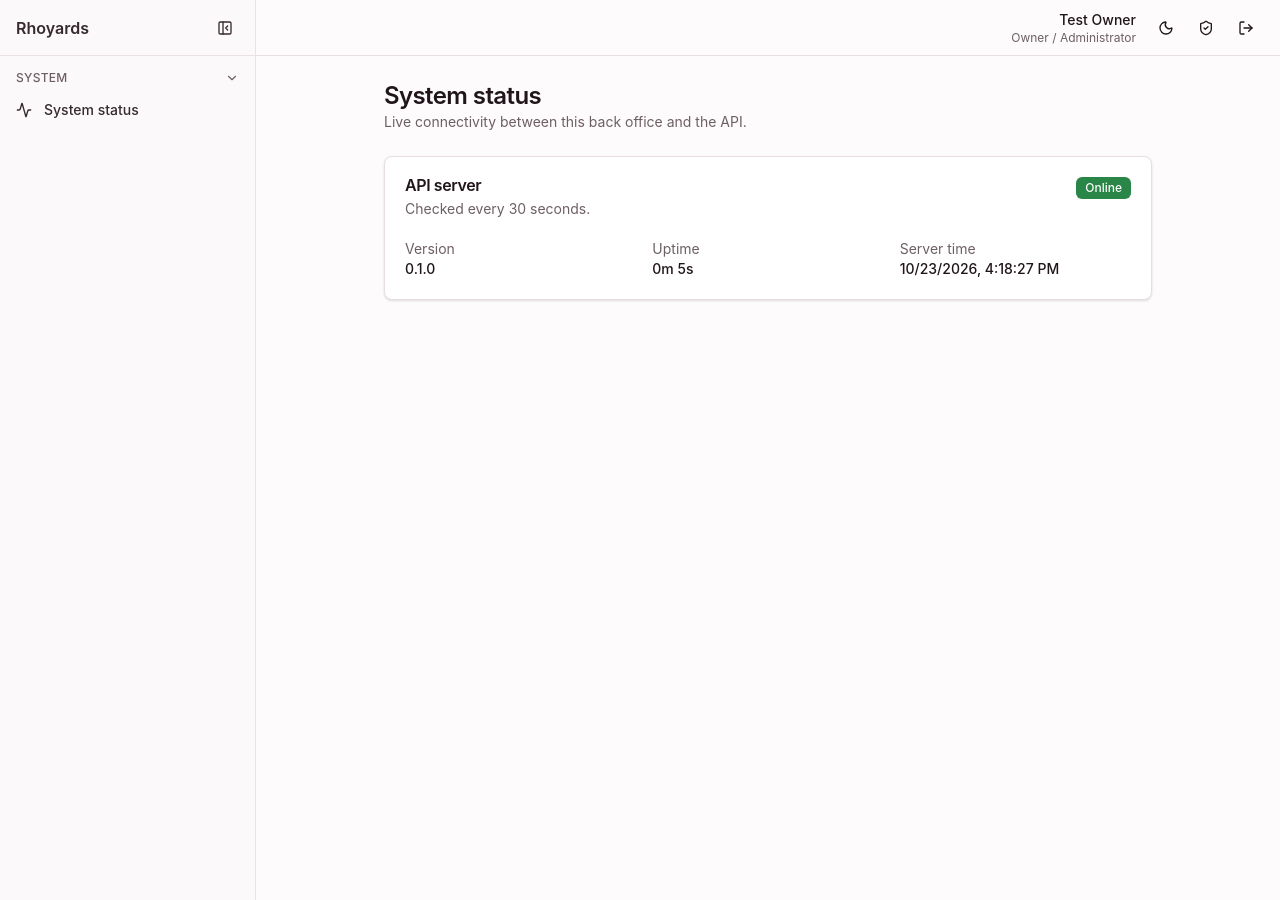
Test: AppLayout › collapses the sidebar and remembers the preference
Click the button named "Collapse sidebar" at (225, 28), box x1=207 y1=10 x2=243 y2=46
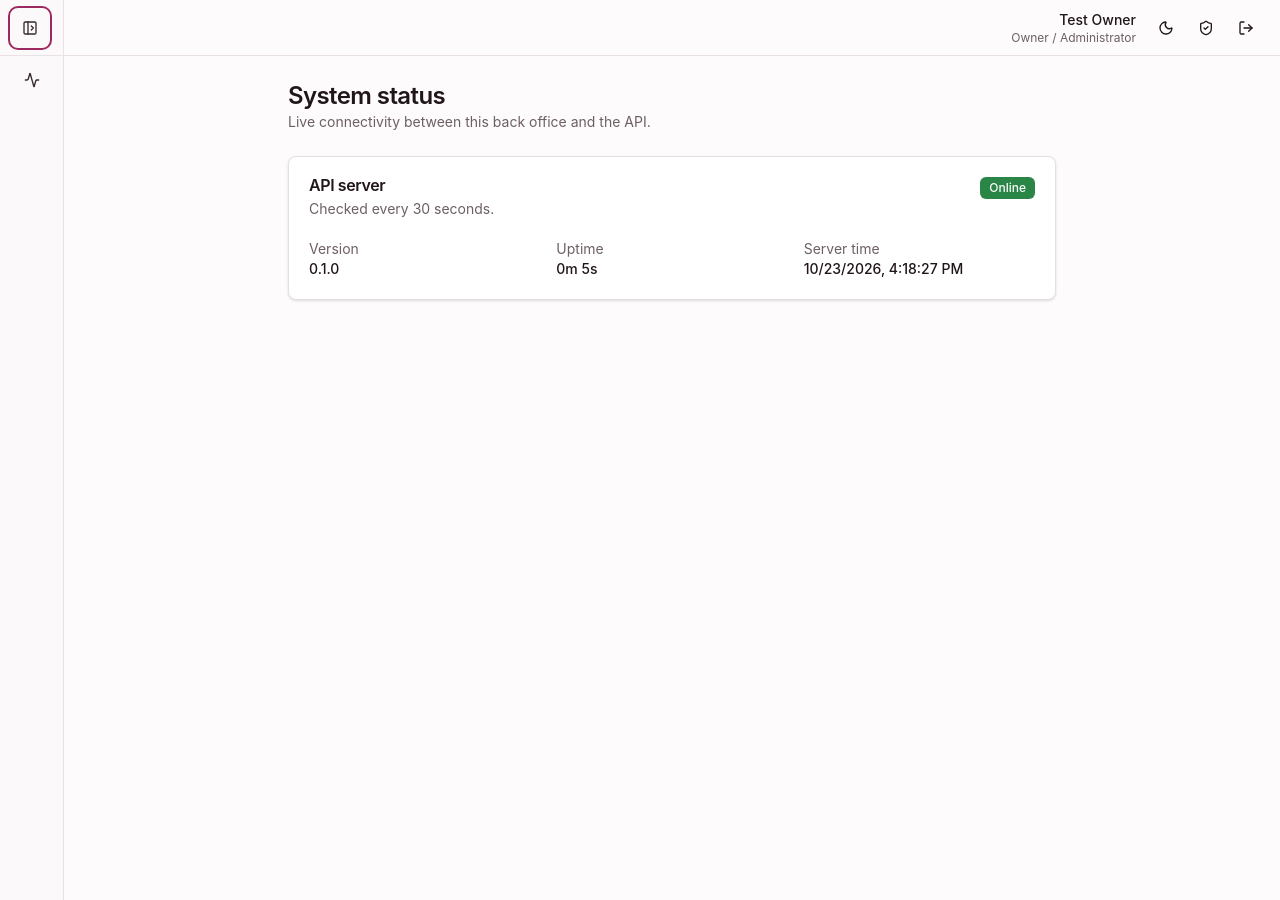
Expected: the button named "Expand sidebar" is collapsed, x1=12 y1=10 x2=48 y2=46
